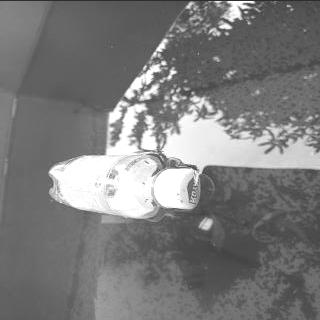bottle: (44, 152, 200, 219)
